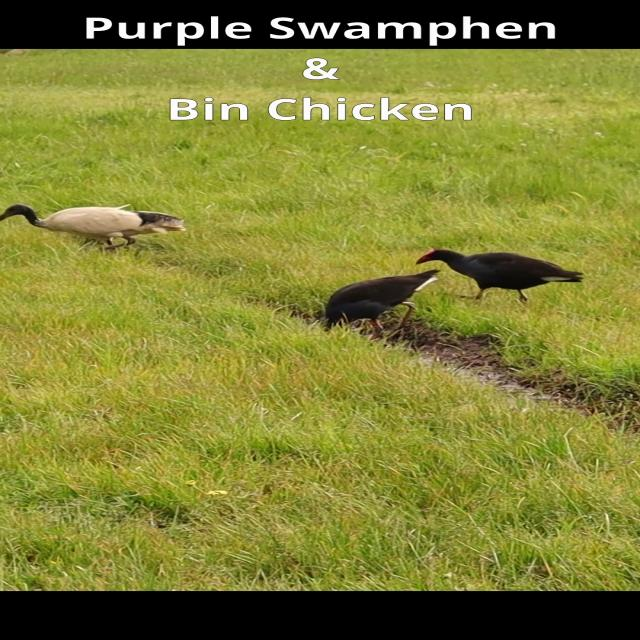Birds-Ibis: (0, 199, 191, 255)
Birds-Other: (410, 242, 586, 306), (318, 267, 444, 347)
